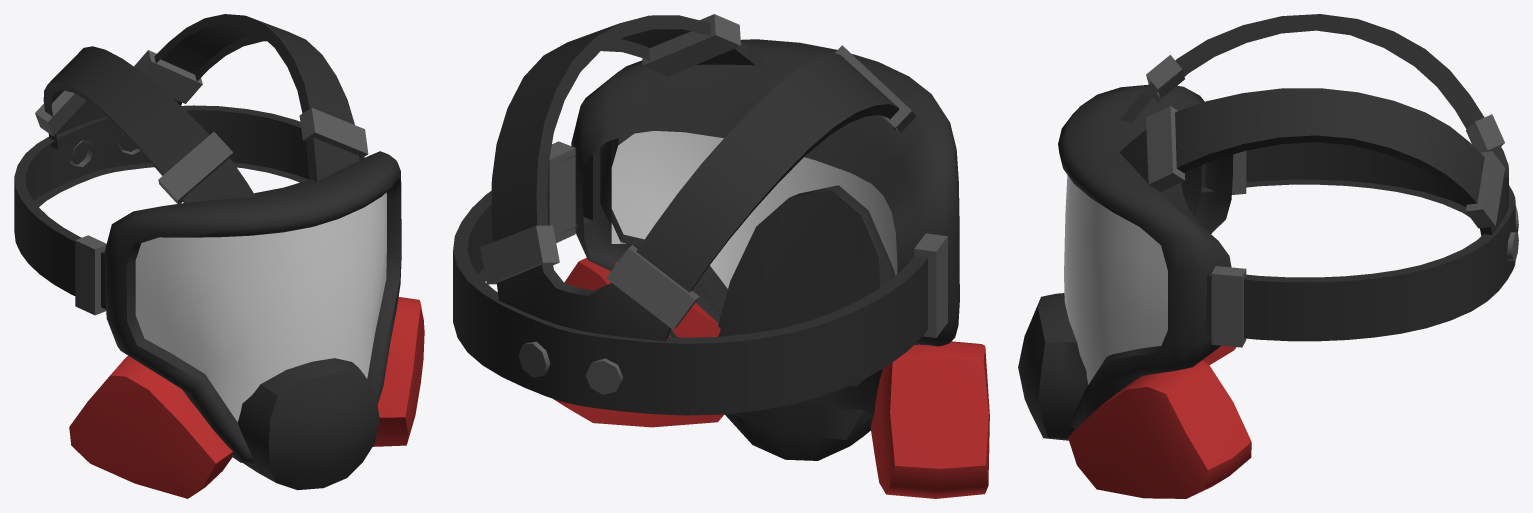
Rendered from 8防毒面罩.fbx.
3 renders of one model, left to right at view 1: azimuth 30°, elevation 25°; view 2: azimuth 150°, elevation 25°; view 3: azimuth 270°, elevation 25°, orthographic. The views are drawn at different scales.
Parts seen in each view (by area): view 1: 防毒面罩, HazmatMask.001; view 2: 防毒面罩, HazmatMask.001; view 3: 防毒面罩, HazmatMask.001.
Part boxes in pixels (x1,y1,x2,y2): 防毒面罩: (14,14,424,498); HazmatMask.001: (135,192,386,421); 防毒面罩: (453,14,989,498); HazmatMask.001: (611,131,897,288); 防毒面罩: (1018,14,1518,498); HazmatMask.001: (1064,175,1167,384).
Size of the model in its own units: 0.4387 by 0.4281 by 0.5029.
